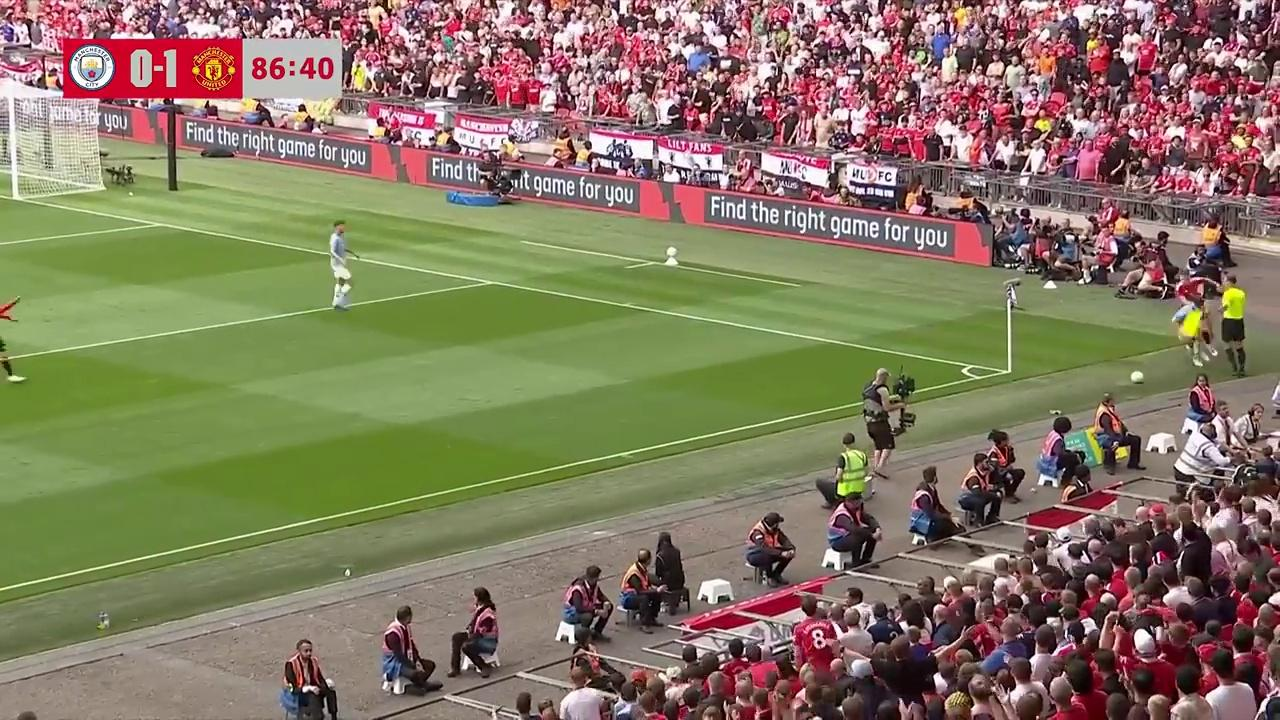ball: (1128, 368, 1147, 384)
player: (1172, 302, 1208, 363), (0, 288, 22, 382), (330, 221, 352, 312), (1174, 264, 1211, 307)
referee: (1221, 271, 1251, 375)
